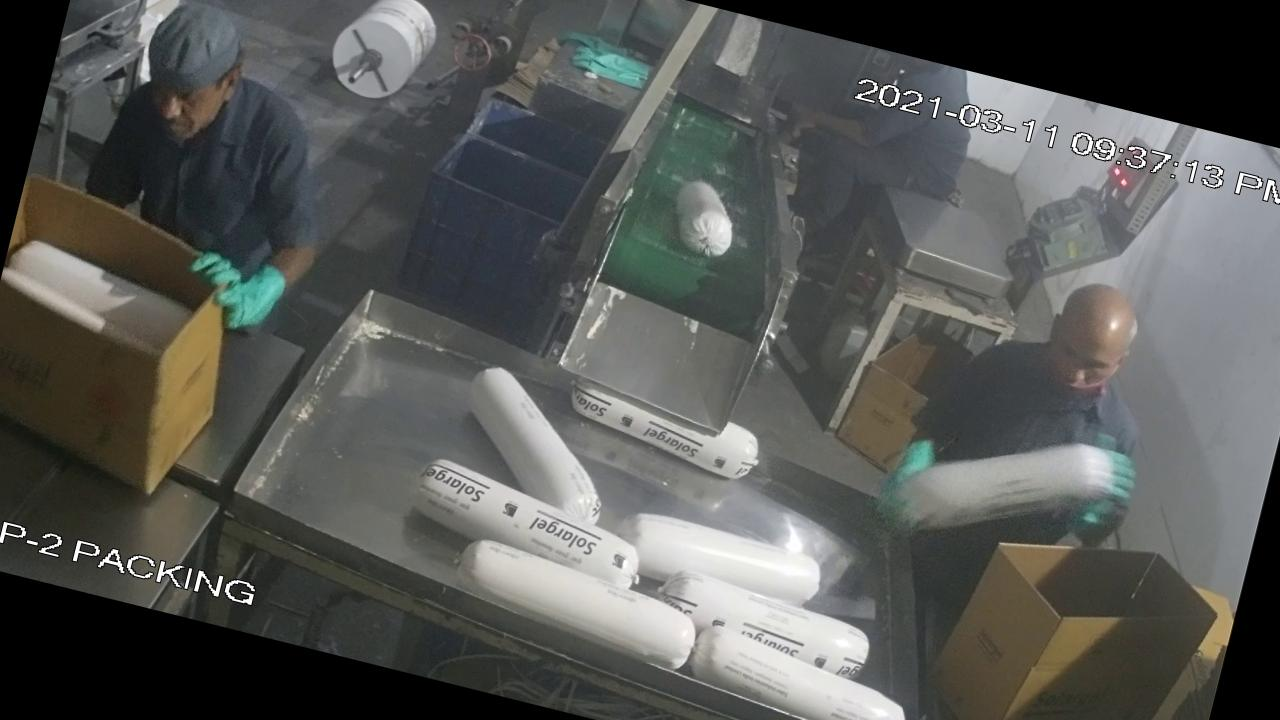Gloves: (165, 228, 318, 362)
No-gloves: (772, 91, 882, 166)
